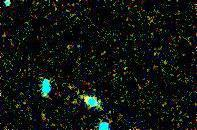star: (54, 33, 84, 63)
